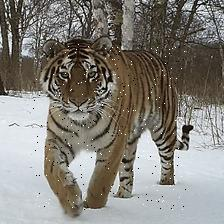tiger: (33, 44, 186, 212)
